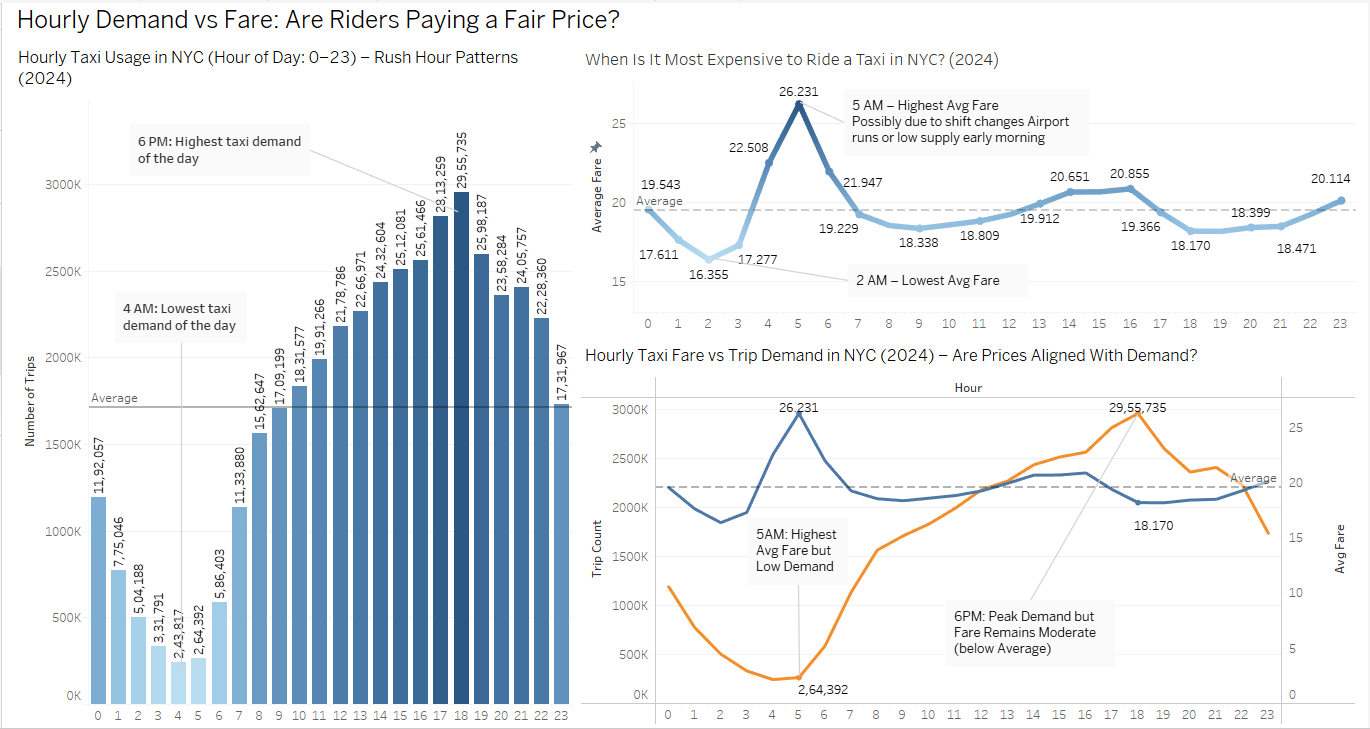

This screenshot's page, from the dashboard's own definition file:
{"tool":"tableau","page":{"name":"Dashboard 2: Hourly Dynamics – Demand vs Pricing (2024)","canvas":[1366,745],"ordinal":1},"visuals":[{"type":"title","box":[8,8,1350,39]},{"type":"worksheet","title":"Hourly Taxi Trip Demand","mark":"Bar","rows":["trip_count"],"cols":["hour"],"box":[8,47,567.1,690]},{"type":"worksheet","title":"Hourly Taxi Avg Fare (2024)","mark":"Line","rows":["avg_fare"],"cols":["hour"],"box":[575.2,47,782.8,298.2]},{"type":"worksheet","title":"Hourly Fare vs Trip Volume","mark":"Line","rows":["trip_count","avg_fare"],"cols":["hour"],"box":[575.2,345.2,782.8,391.8]}]}

Visuals, with their boxes in screenshot pixels (x1, y1, x2, y2), scaled from the page's 1366x745 canvas onto the 1370x729 screenshot:
title: 8/8/1362/46
"Hourly Taxi Trip Demand" worksheet (Bar marks): 8/46/577/721
"Hourly Taxi Avg Fare (2024)" worksheet (Line marks): 577/46/1362/338
"Hourly Fare vs Trip Volume" worksheet (Line marks): 577/338/1362/721
